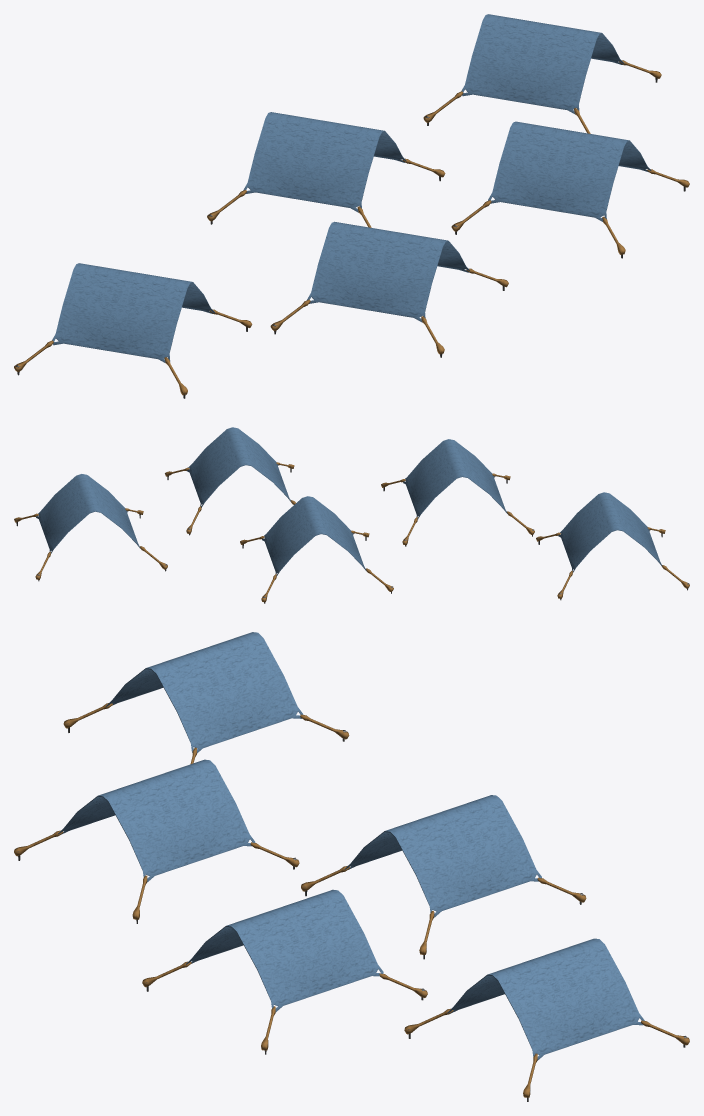
Rendered from Tarps_LightBlue.obj.
3 views of the same model, one above another, from view 1: azimuth 30°, elevation 25°; view 2: azimuth 150°, elevation 25°; view 3: azimuth 270°, elevation 25° (orthographic). The views are drawn at different scales.
Visible parts, largest first — view 1: Tarp_Tan.002_Material.208, Tarp_Tan.003_Material.208, Tarp_Tan_Material.208, Tarp_Tan.001_Material.208, Tarp_Tan.004_Material.208, Tent_Stakes.002_Material.148, Tent_Stakes.003_Material.148, Tent_Stakes.004_Material.148; view 2: Tarp_Tan.002_Material.208, Tarp_Tan.004_Material.208, Tarp_Tan.001_Material.208, Tarp_Tan.003_Material.208, Tarp_Tan_Material.208, Tent_Stakes_Material.148, Tent_Stakes.004_Material.148, Tent_Stakes.001_Material.148, Tent_Stakes.003_Material.148; view 3: Tarp_Tan.002_Material.208, Tarp_Tan.001_Material.208, Tarp_Tan_Material.208, Tarp_Tan.003_Material.208, Tarp_Tan.004_Material.208, Tent_Stakes.001_Material.148, Tent_Stakes.002_Material.148, Tent_Stakes_Material.148, Tent_Stakes.003_Material.148.
Part boxes in pixels (left/top/right/bottom): Tarp_Tan.002_Material.208: left=488, top=121, right=651, bottom=221; Tarp_Tan.003_Material.208: left=307, top=221, right=469, bottom=322; Tarp_Tan_Material.208: left=461, top=14, right=624, bottom=114; Tarp_Tan.001_Material.208: left=243, top=112, right=406, bottom=212; Tarp_Tan.004_Material.208: left=52, top=263, right=214, bottom=362; Tent_Stakes.002_Material.148: left=451, top=169, right=689, bottom=258; Tent_Stakes.003_Material.148: left=270, top=268, right=508, bottom=357; Tent_Stakes.004_Material.148: left=14, top=309, right=252, bottom=398; Tarp_Tan.002_Material.208: left=187, top=427, right=291, bottom=507; Tarp_Tan.004_Material.208: left=558, top=492, right=662, bottom=572; Tarp_Tan.001_Material.208: left=262, top=496, right=366, bottom=576; Tarp_Tan.003_Material.208: left=403, top=439, right=507, bottom=519; Tarp_Tan_Material.208: left=36, top=474, right=140, bottom=553; Tent_Stakes_Material.148: left=14, top=508, right=167, bottom=581; Tent_Stakes.004_Material.148: left=536, top=527, right=689, bottom=600; Tent_Stakes.001_Material.148: left=240, top=530, right=393, bottom=603; Tent_Stakes.003_Material.148: left=381, top=473, right=534, bottom=546; Tarp_Tan.002_Material.208: left=186, top=889, right=383, bottom=1011; Tarp_Tan.001_Material.208: left=344, top=795, right=541, bottom=917; Tarp_Tan_Material.208: left=447, top=938, right=644, bottom=1060; Tarp_Tan.003_Material.208: left=58, top=759, right=255, bottom=882; Tarp_Tan.004_Material.208: left=106, top=632, right=303, bottom=753; Tent_Stakes.001_Material.148: left=301, top=866, right=586, bottom=959; Tent_Stakes.002_Material.148: left=142, top=961, right=427, bottom=1054; Tent_Stakes_Material.148: left=404, top=1008, right=689, bottom=1101; Tent_Stakes.003_Material.148: left=14, top=830, right=299, bottom=923.
Size of the model in its own units: 14.81 by 1.42 by 9.89.
